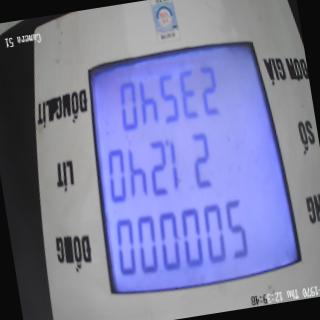screen: (70, 27, 309, 320)
